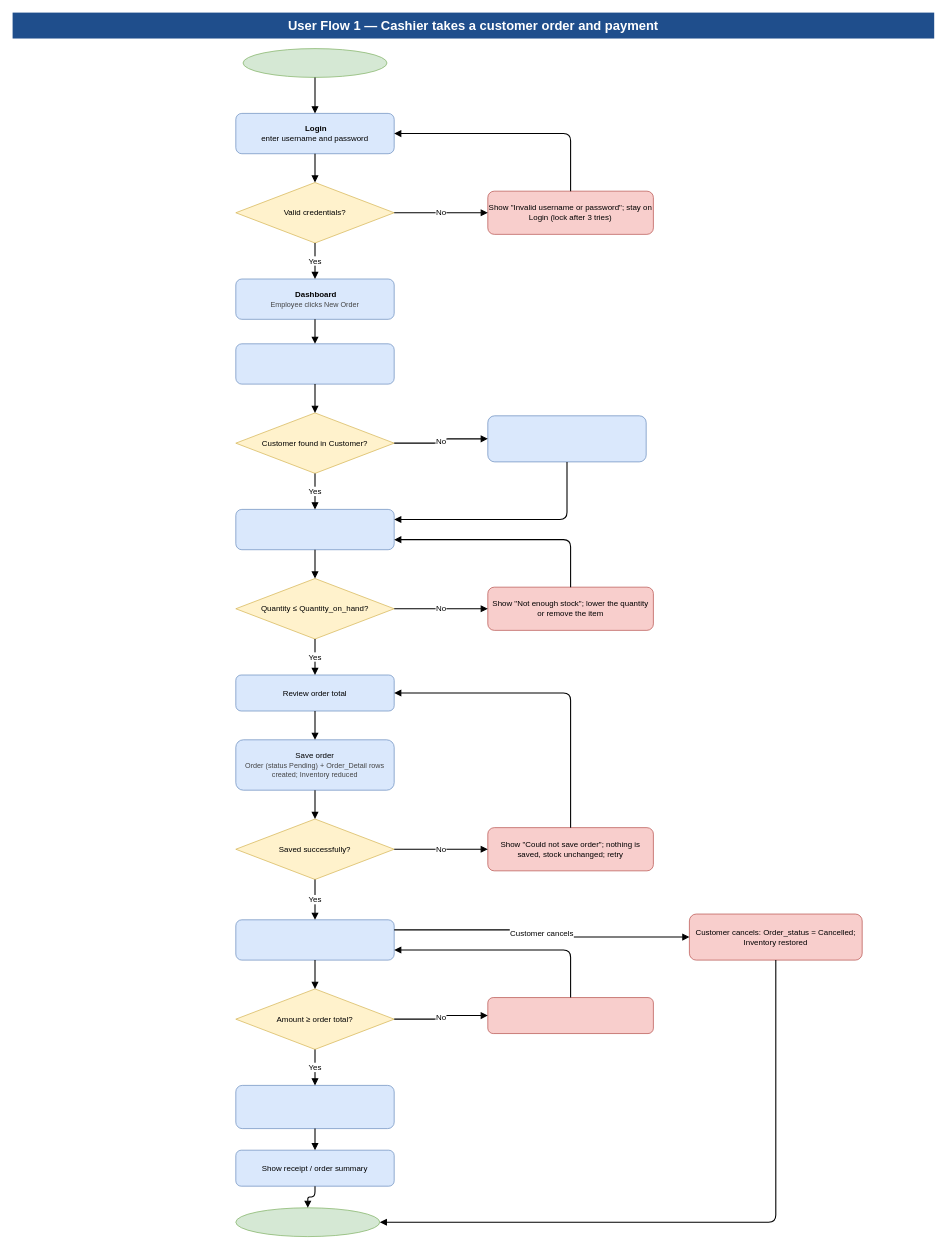
Some shapes in this 946 by 1249 pixel diagram are drawn without their labels. The centre of each missing label's shape, as x and y in pixels:
Add products and quantity Reads Product (name, Unit_price): the point at 314,529
Customers (quick add) Customer record created: name, phone: the point at 566,438
End: order completed: the point at 307,1222
New Order search / select customer: the point at 314,363
Payment enter amount and Payment_method: the point at 314,939
Save payment Payment created; Order_status = Paid: the point at 314,1107
Show "Amount is too low" and ask again: the point at 570,1015
Start: Employee opens Biko: the point at 314,62
